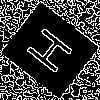H: (24, 25, 82, 82)
